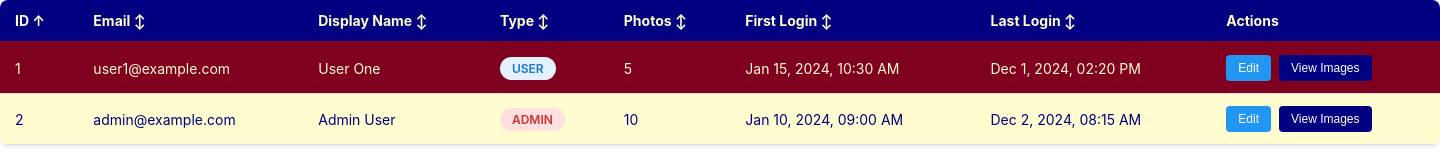
Test: UserTable Component › enters edit mode when Edit button clicked
This screenshot has width=1440, height=168.
Click the button "Edit" in the row of "user1@example.com": (1249, 68) [1226,55,1271,81]
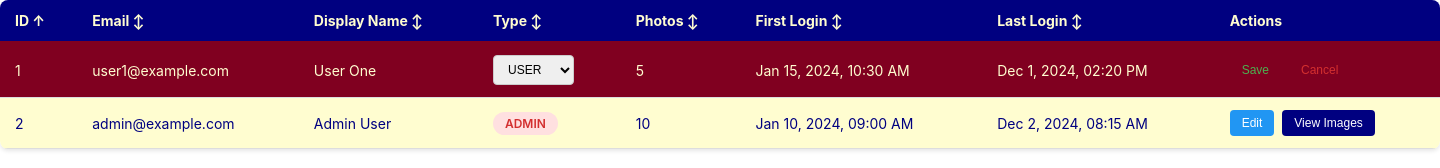
Now the button "Save" is shown, box [1230,57,1281,83]
Now the button "Cancel" is shown, box [1289,57,1350,83]
Now the dropdown shows "USER", box [493,55,574,85]
